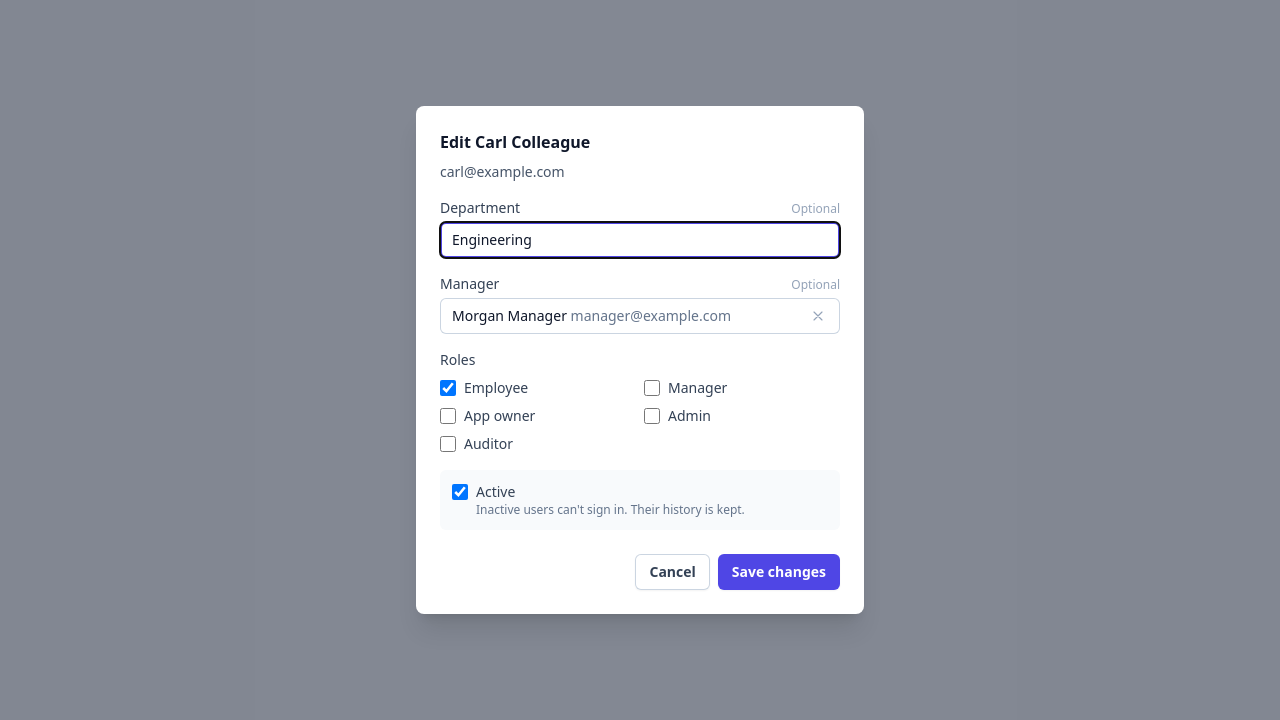
Test: EditUserModal › shows a manager-cycle error next to the manager field
Click the button named "Clear Morgan Manager": (818, 316) [808,306,828,326]
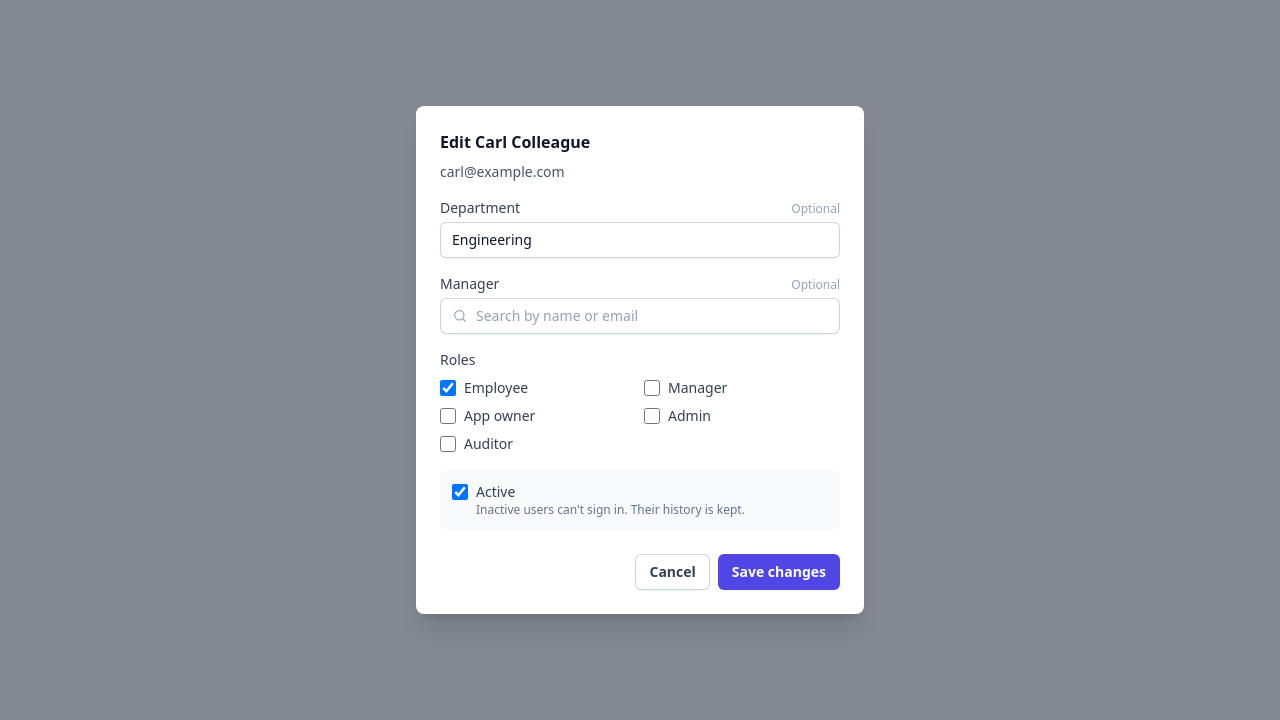
Click the button "Save changes": (779, 572) [718,554,840,590]
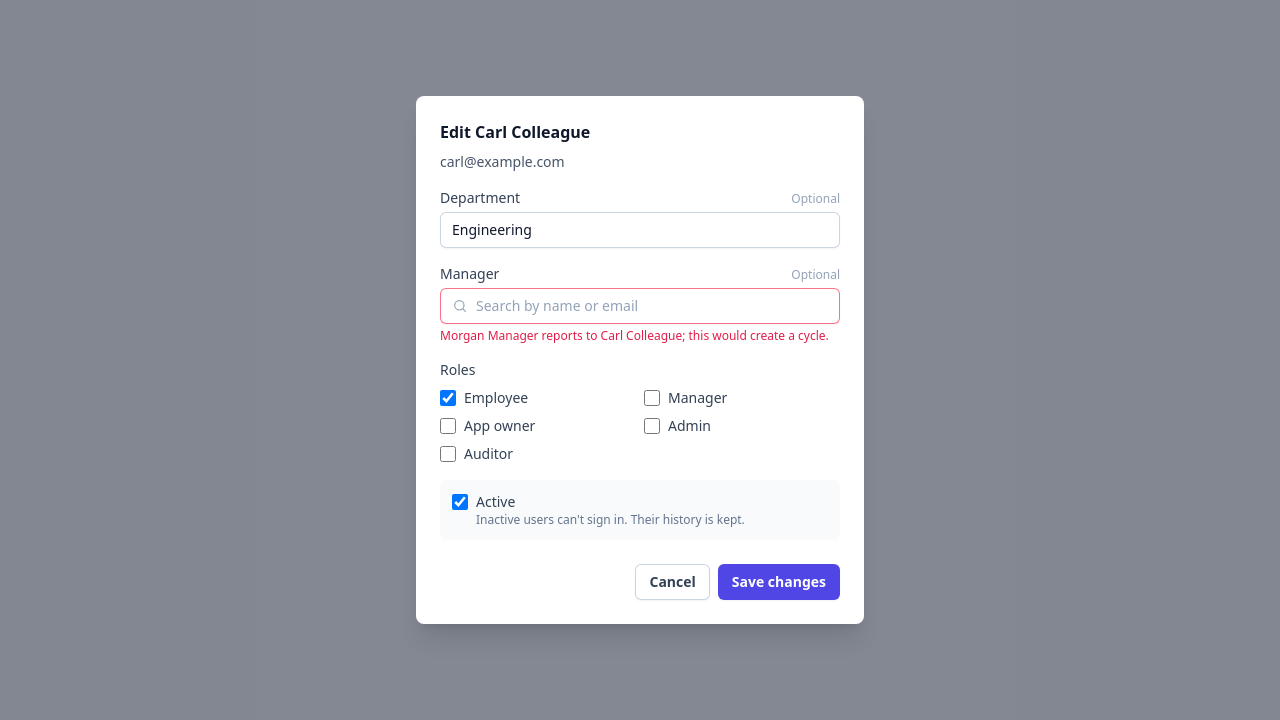
Now the text "would create a cycle" is shown, box [440,327,829,344]
